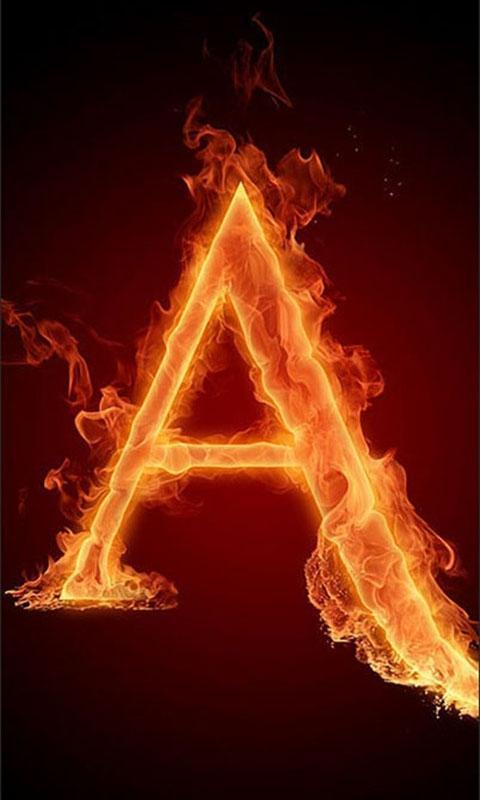fire: (189, 123, 320, 221)
